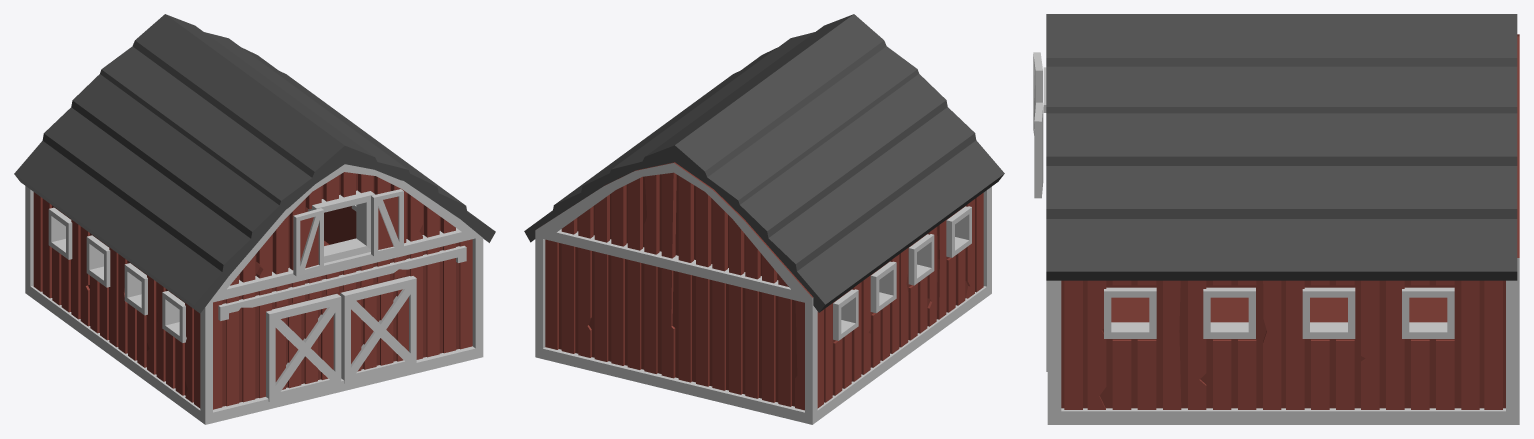
Rendered from barn.glb.
3 renders of one model, left to right at view 1: azimuth 30°, elevation 25°; view 2: azimuth 150°, elevation 25°; view 3: azimuth 270°, elevation 25°, orthographic. The views are drawn at different scales.
Parts seen in each view (by area): view 1: Barn_Cube.005; view 2: Barn_Cube.005; view 3: Barn_Cube.005.
Boxes of the visible parts, bbox=[...] form: Barn_Cube.005: bbox=[14, 14, 495, 424]; Barn_Cube.005: bbox=[524, 14, 1004, 424]; Barn_Cube.005: bbox=[1033, 14, 1519, 424].
Bounding box in the file's own units: 7.73 × 6.01 × 8.22.
